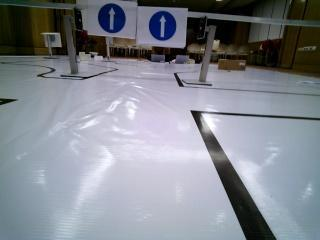straight: (139, 8, 184, 45), (93, 0, 132, 35)
